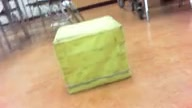cube: (53, 15, 131, 94)
